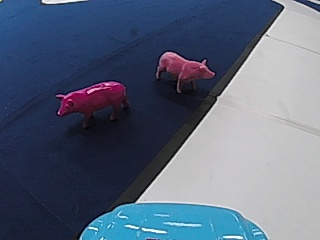pig: (52, 77, 130, 126), (154, 48, 216, 93)
